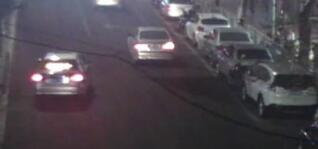car: (239, 62, 315, 116), (28, 48, 91, 103), (212, 43, 281, 85), (194, 26, 257, 66), (125, 25, 178, 64), (179, 12, 235, 47), (158, 0, 198, 18)
